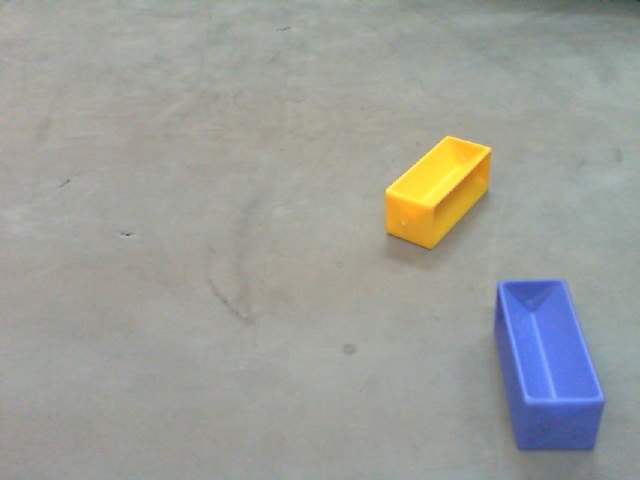BlueSample: (494, 275, 606, 453)
YellowSample: (377, 134, 495, 255)
